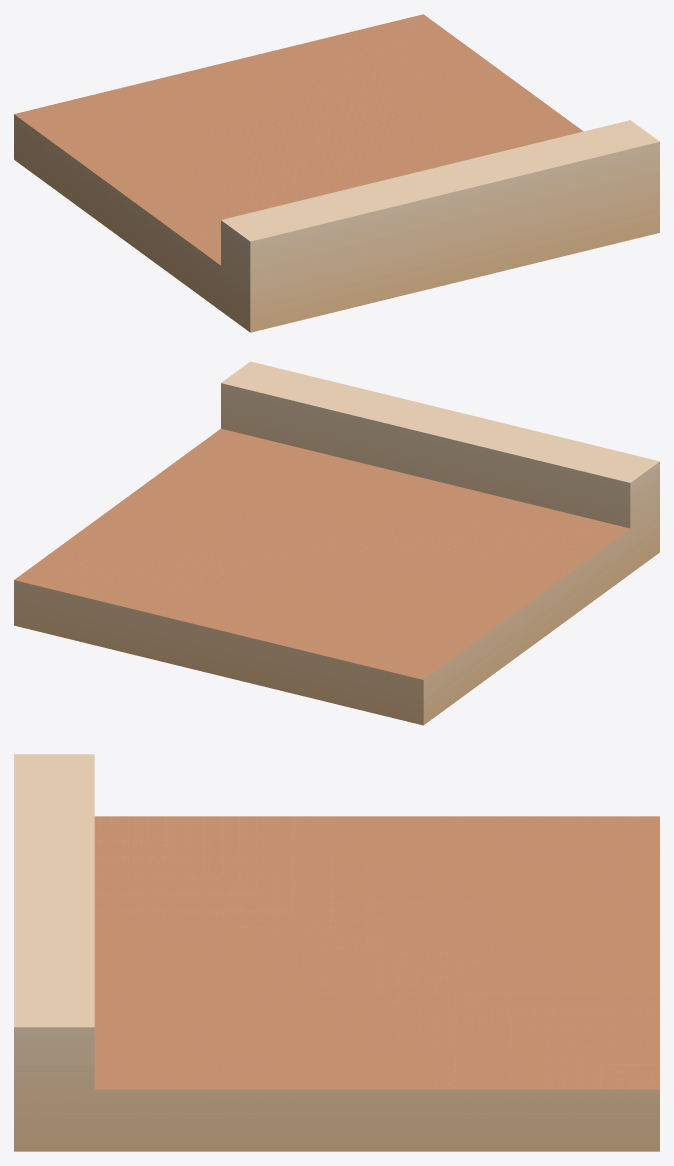
File: roof-flat-border-side.glb
3 renders of one model, top to bottom at view 1: azimuth 30°, elevation 25°; view 2: azimuth 150°, elevation 25°; view 3: azimuth 270°, elevation 25°, orthographic. The views are drawn at different scales.
Visible parts, largest first — view 1: roof-flat-border-side; view 2: roof-flat-border-side; view 3: roof-flat-border-side.
Boxes of the visible parts, x1=… form: roof-flat-border-side: x1=14, y1=14, x2=659, y2=332; roof-flat-border-side: x1=14, y1=361, x2=659, y2=725; roof-flat-border-side: x1=14, y1=754, x2=659, y2=1151.
Size of the model in its own units: 1 by 0.2125 by 1.
Materials: 1 (1 with a texture image).
